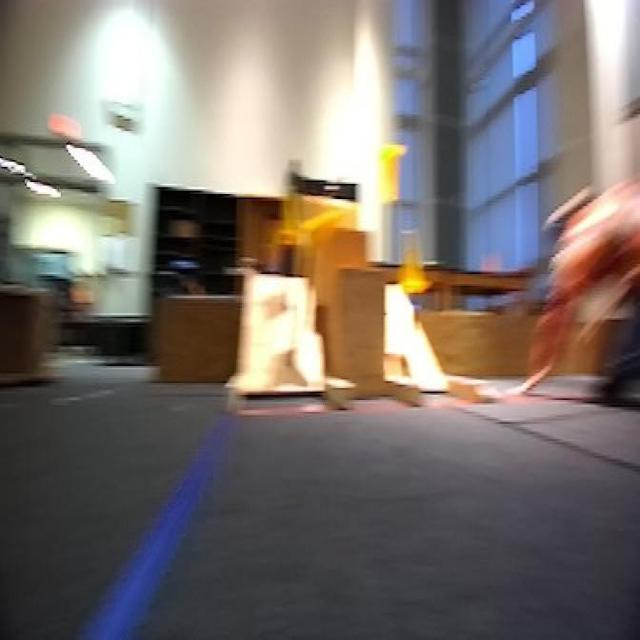frc_cone: (391, 216, 444, 312), (371, 133, 412, 213), (308, 201, 359, 259), (279, 187, 308, 249)
